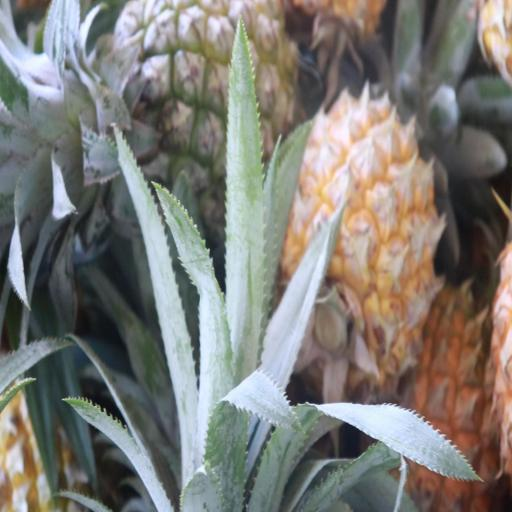Pineapple - v8 v1: (288, 99, 443, 373)
